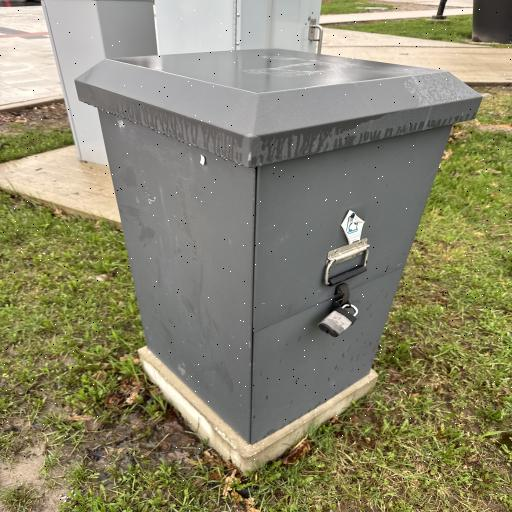Electrical Box: (72, 48, 484, 444)
